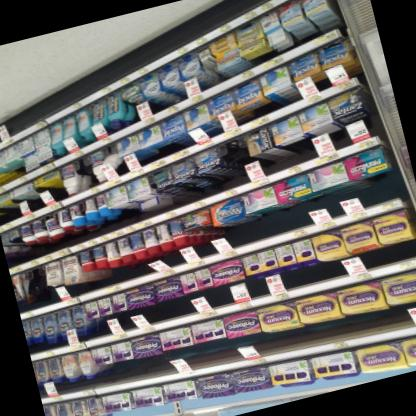empty_space: (214, 136, 259, 185), (17, 264, 52, 309)
